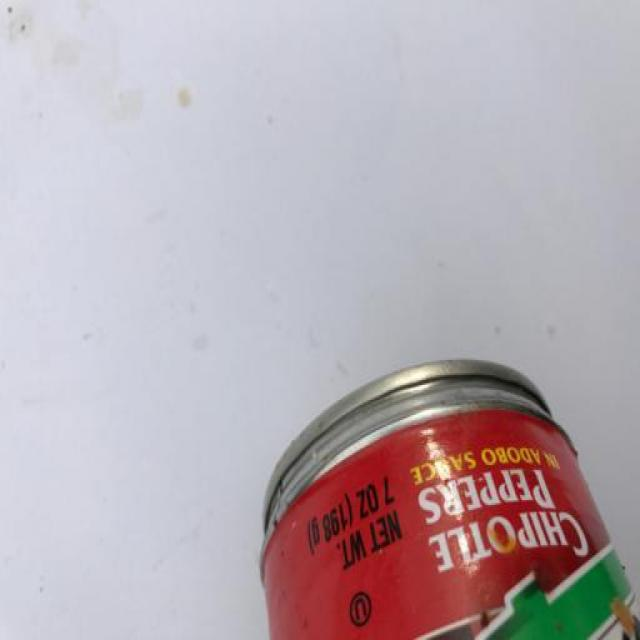metel: (233, 341, 640, 640)
